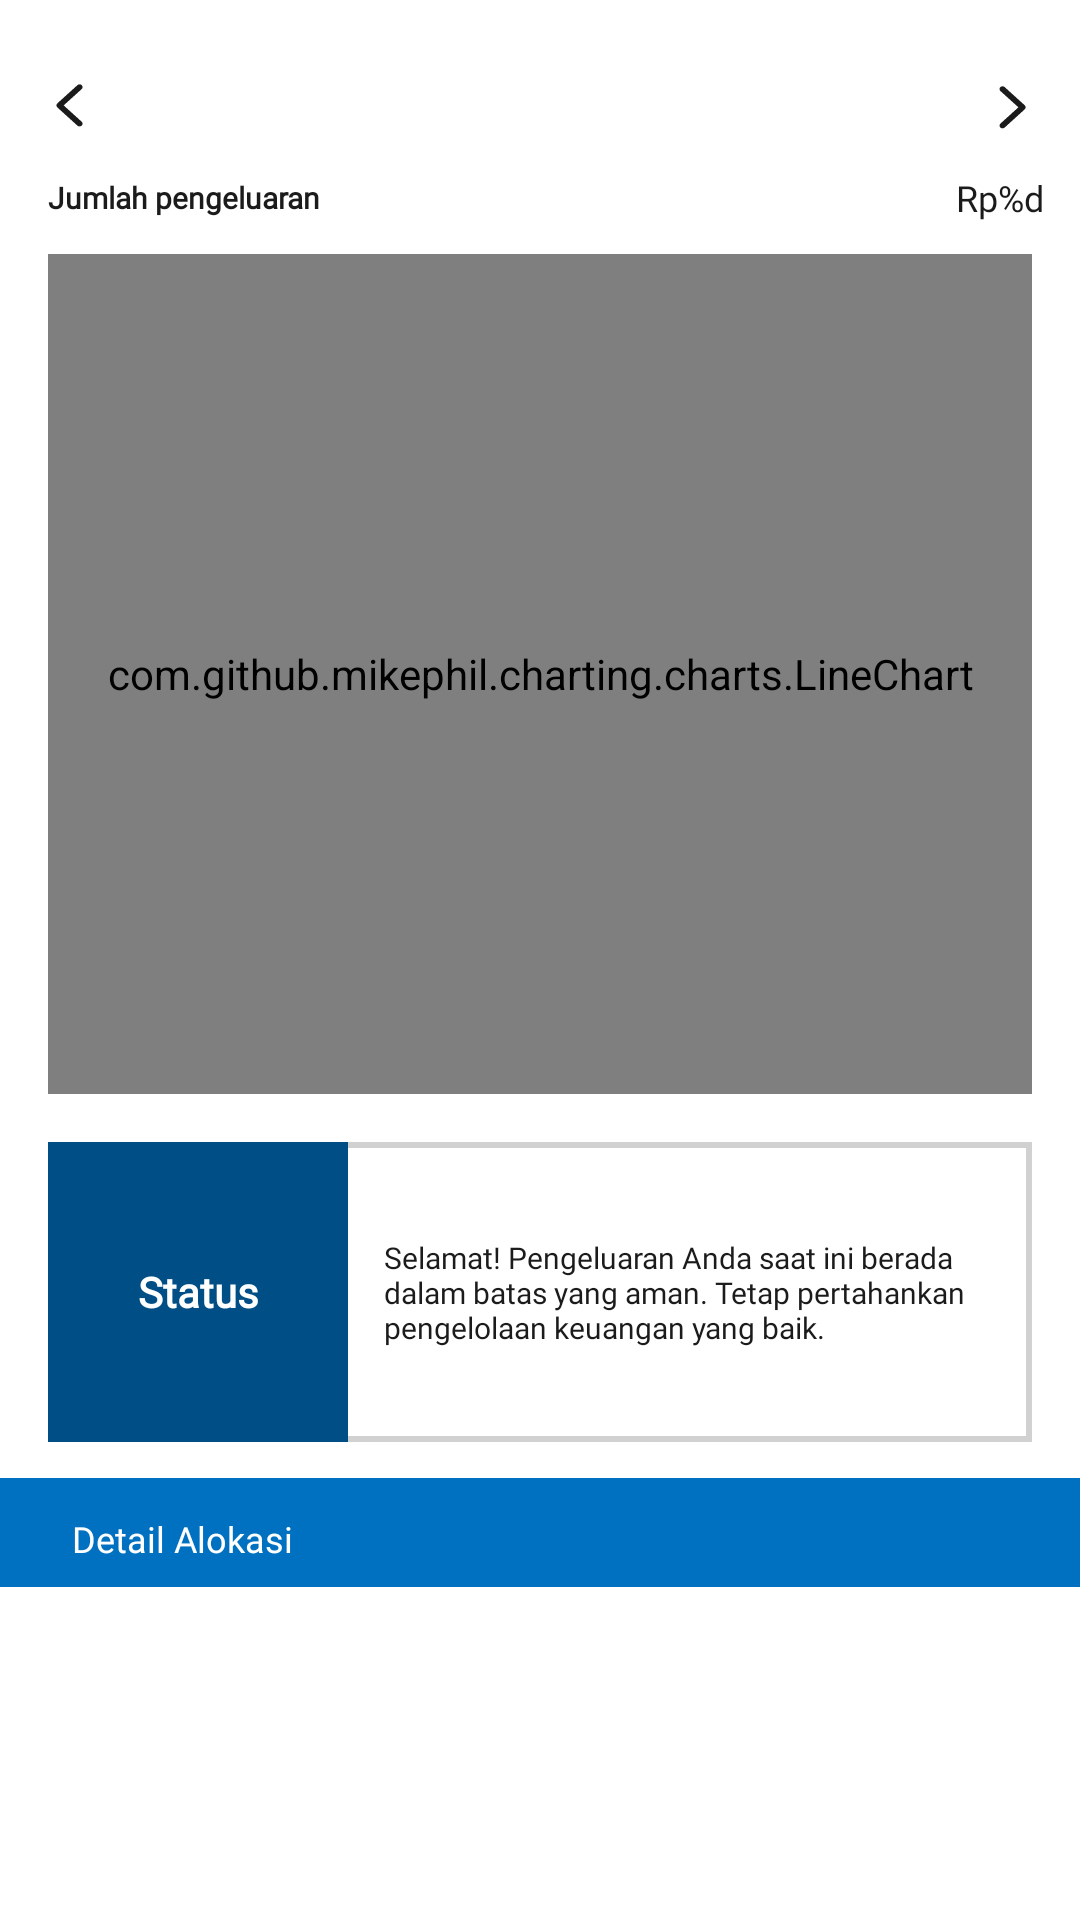

Where to tap for icons on this 1080 x 1920 app screen, as point (x, y):
Next: point (1012, 107)
Previous: point (69, 105)
